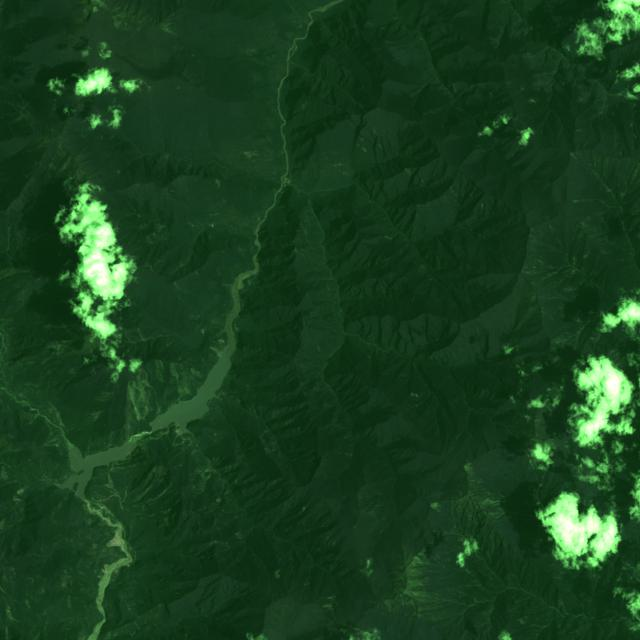landslides: (169, 361, 198, 401), (142, 380, 163, 415), (136, 372, 150, 418), (127, 378, 141, 423), (107, 529, 124, 547), (6, 603, 18, 626), (190, 368, 206, 382), (156, 359, 164, 382), (209, 346, 223, 356), (173, 281, 184, 292), (25, 599, 32, 616), (140, 368, 149, 381), (356, 142, 367, 152), (243, 151, 258, 158), (6, 227, 10, 252)
